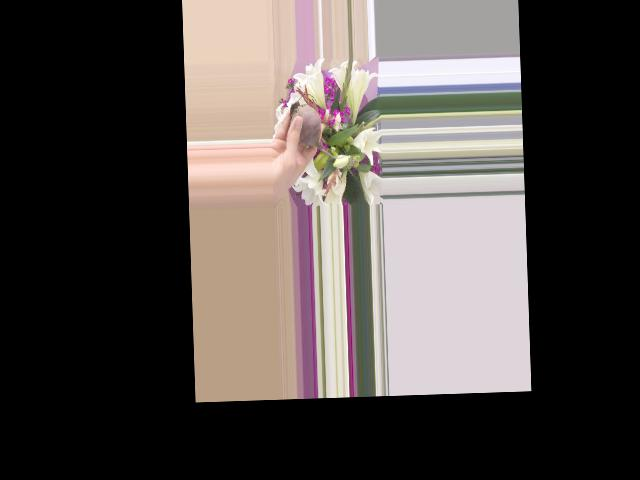beet: (288, 92, 344, 160)
